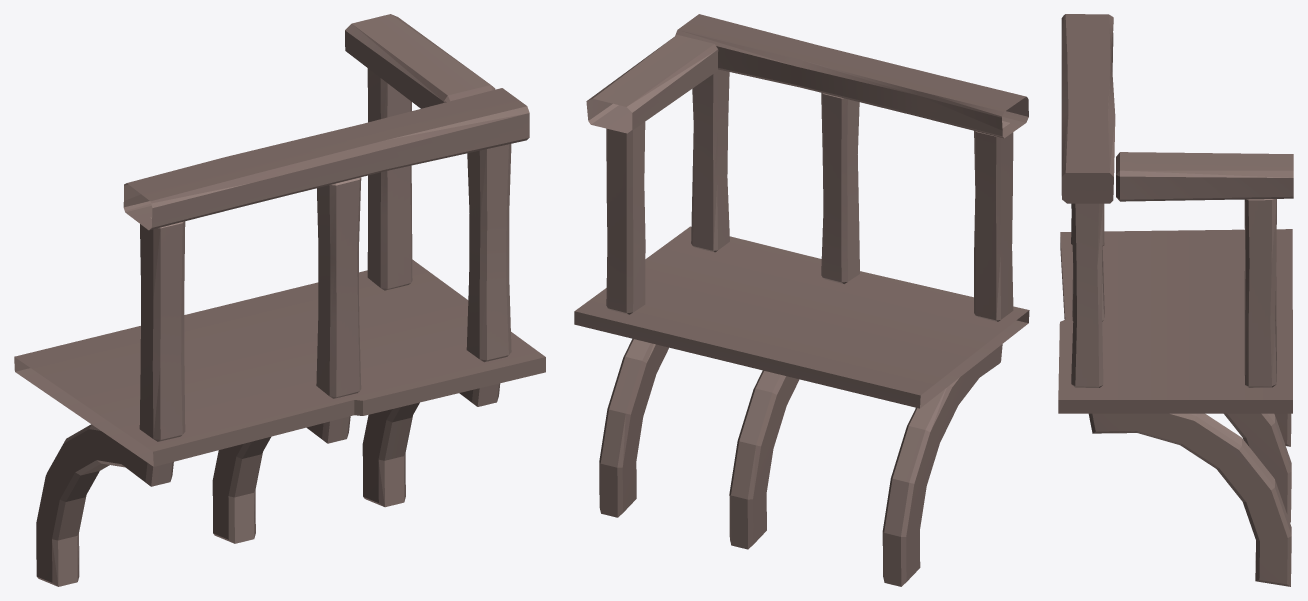
File: Balcony_cut_right.fbx
The picture shows the model from 3 angles, left to right: view 1: azimuth 30°, elevation 25°; view 2: azimuth 150°, elevation 25°; view 3: azimuth 270°, elevation 25°; orthographic projection. The views are drawn at different scales.
Parts seen in each view (by area): view 1: balcony_B; view 2: balcony_B; view 3: balcony_B.
Part boxes in pixels (x1,y1,x2,y2): balcony_B: [14, 14, 545, 586]; balcony_B: [574, 14, 1029, 586]; balcony_B: [1058, 14, 1293, 586].
Size of the model in its own units: 0.1847 by 0.2117 by 0.1074.
